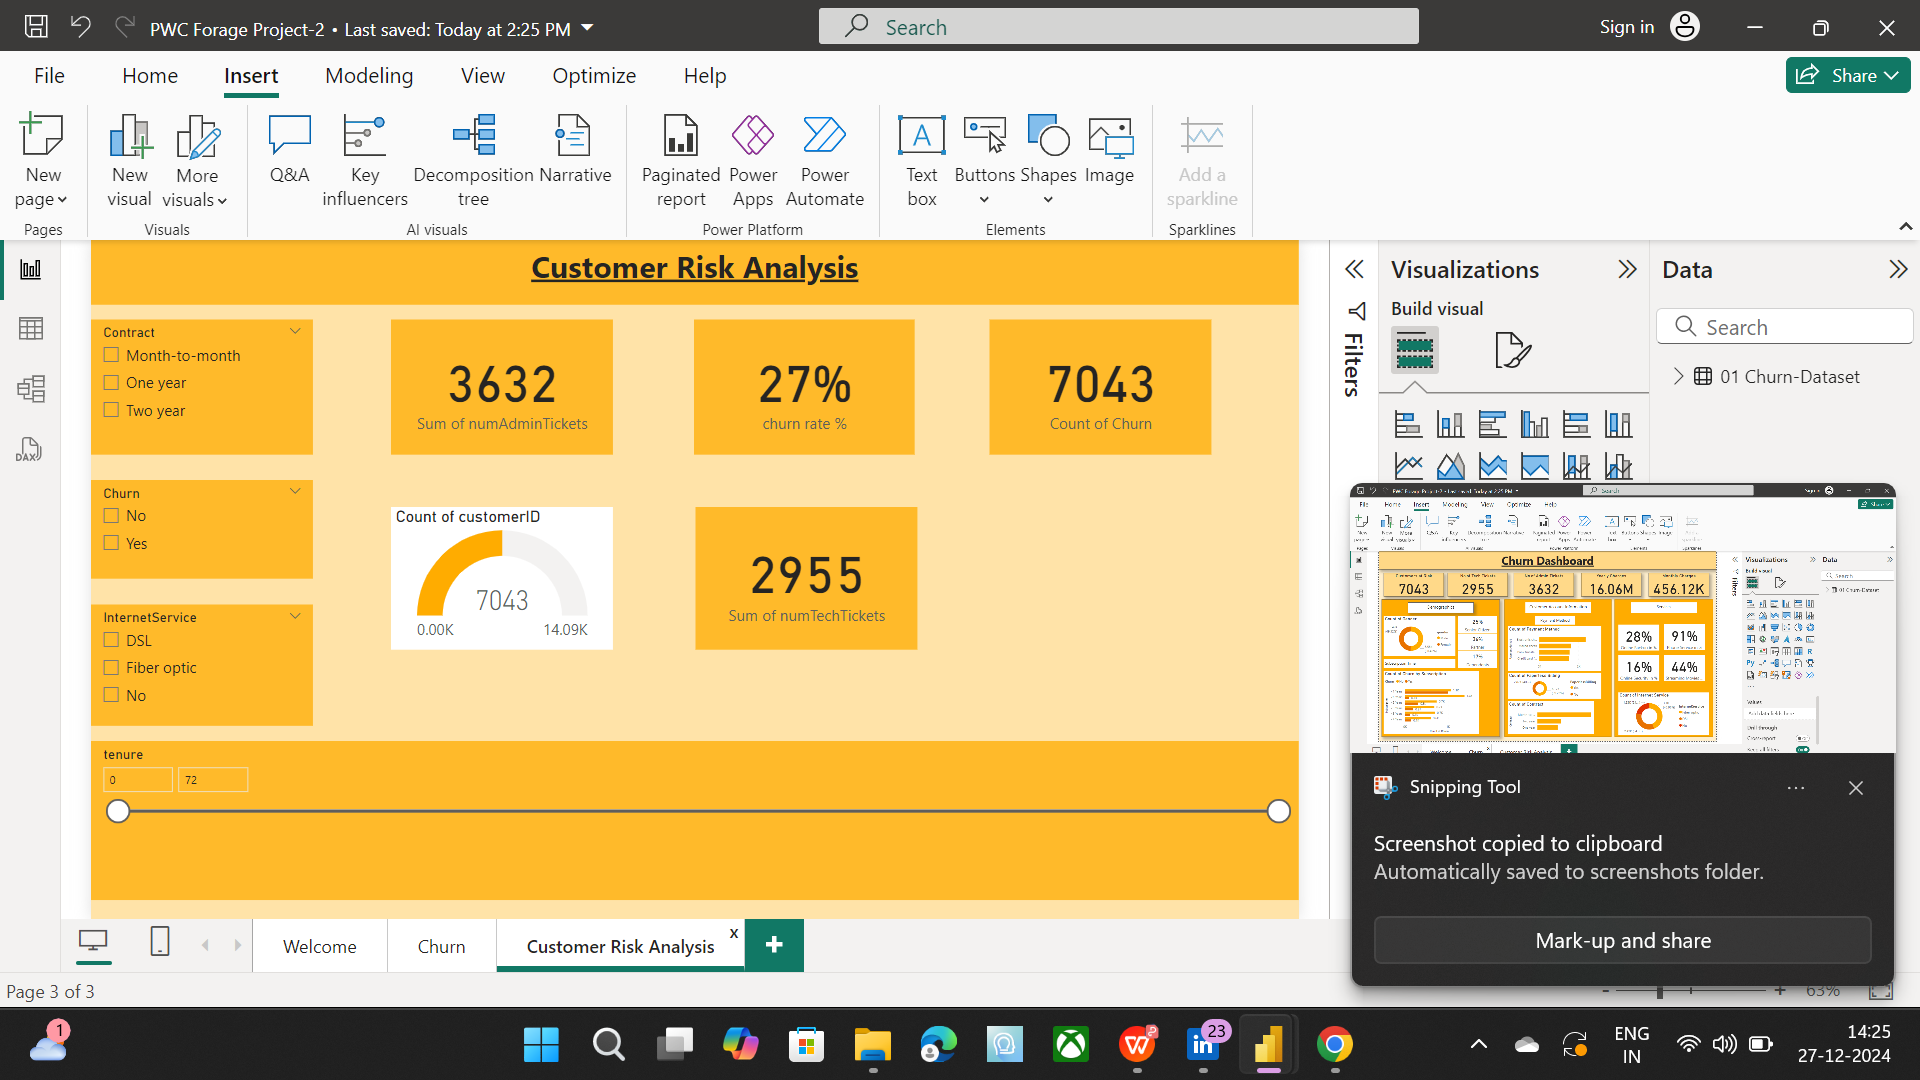

What the dashboard file says about the page in this screenshot:
{"tool":"powerbi","page":{"name":"Customer Risk Analysis","canvas":[1280,720],"ordinal":2},"visuals":[{"type":"textbox","box":[0,0,1280.4,68.4],"z":0},{"type":"slicer","fields":{"Values":["01 Churn-Dataset.Churn"]},"box":[0,254.5,235.4,105],"z":1000},{"type":"slicer","fields":{"Values":["01 Churn-Dataset.tenure"]},"box":[0,531.3,1280.4,168.6],"z":2000},{"type":"slicer","fields":{"Values":["01 Churn-Dataset.InternetService"]},"box":[0,386.5,235.4,128.8],"z":3000},{"type":"slicer","fields":{"Values":["01 Churn-Dataset.Contract"]},"box":[0,84.3,235.4,143.2],"z":4000},{"type":"card","fields":{"Values":["01 Churn-Dataset.Churn"]},"box":[952.8,84.3,235.4,143.2],"z":5000},{"type":"card","fields":{"Values":["01 Churn-Dataset.churn rate %"]},"box":[639.4,84.3,233.8,143.2],"z":6000},{"type":"gauge","fields":{"Y":["01 Churn-Dataset.customerID"]},"box":[318.1,283.1,235.4,151.1],"z":7000},{"type":"card","fields":{"Values":["01 Churn-Dataset.numAdminTickets"]},"box":[318.1,84.3,235.4,143.2],"z":8000},{"type":"card","fields":{"Values":["01 Churn-Dataset.numTechTickets"]},"box":[641,283.1,235.4,151.1],"z":9000}]}

Visuals, with their boxes on the page's 1280x720 design canvas (x1, y1, x2, y2). These are canvas units, not pixel positions in the 1920x1080 screenshot, which may show the page scaled, cropped or inside an application window:
textbox: BBox(0, 0, 1280, 68)
slicer - 01 Churn-Dataset.Churn: BBox(0, 254, 235, 360)
slicer - 01 Churn-Dataset.tenure: BBox(0, 531, 1280, 700)
slicer - 01 Churn-Dataset.InternetService: BBox(0, 386, 235, 515)
slicer - 01 Churn-Dataset.Contract: BBox(0, 84, 235, 228)
card - 01 Churn-Dataset.Churn: BBox(953, 84, 1188, 228)
card - 01 Churn-Dataset.churn rate %: BBox(639, 84, 873, 228)
gauge - 01 Churn-Dataset.customerID: BBox(318, 283, 554, 434)
card - 01 Churn-Dataset.numAdminTickets: BBox(318, 84, 554, 228)
card - 01 Churn-Dataset.numTechTickets: BBox(641, 283, 876, 434)
